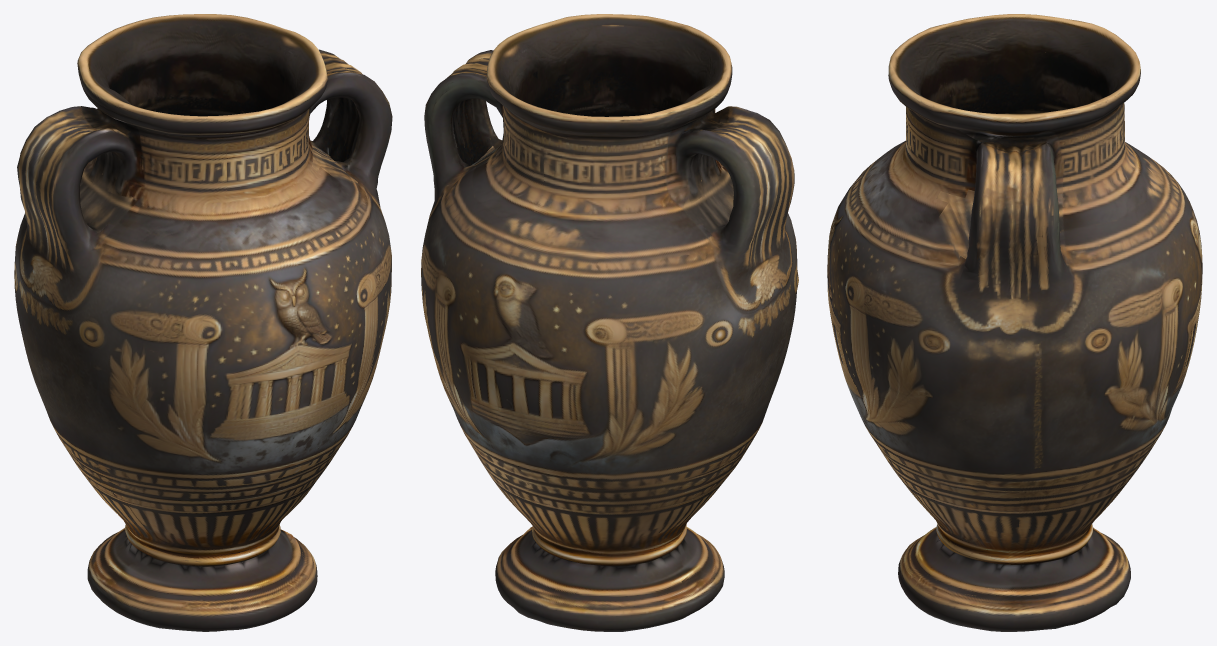
3 views of the same model, side by side, from view 1: azimuth 30°, elevation 25°; view 2: azimuth 150°, elevation 25°; view 3: azimuth 270°, elevation 25° (orthographic).
Size of the model in its own units: 1.37 by 2.01 by 1.31.
1 material, 1 textured.
